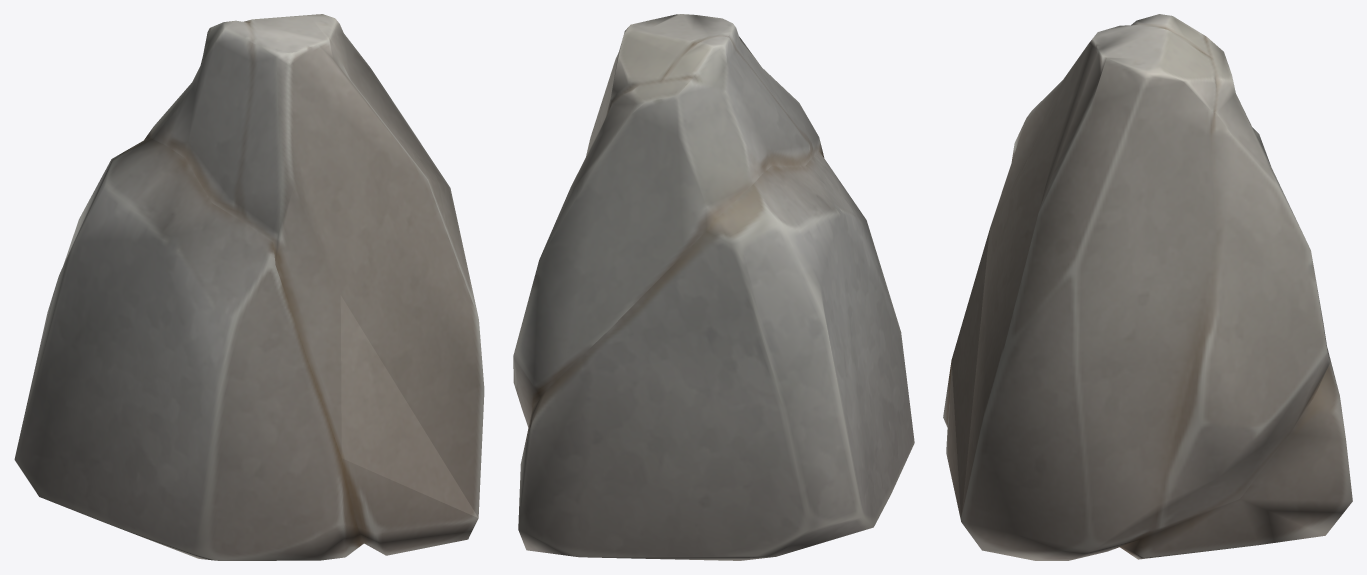
Rendered from rock3.glb.
The picture shows the model from 3 angles, left to right: view 1: azimuth 30°, elevation 25°; view 2: azimuth 150°, elevation 25°; view 3: azimuth 270°, elevation 25°; orthographic projection. The views are drawn at different scales.
Parts seen in each view (by area): view 1: SM_Rocks_05_RocksStylized_M_0; view 2: SM_Rocks_05_RocksStylized_M_0; view 3: SM_Rocks_05_RocksStylized_M_0.
Part boxes in pixels (x1,y1,x2,y2): SM_Rocks_05_RocksStylized_M_0: [14, 14, 484, 560]; SM_Rocks_05_RocksStylized_M_0: [513, 14, 914, 560]; SM_Rocks_05_RocksStylized_M_0: [943, 14, 1352, 560].
Size of the model in its own units: 10.79 by 13.77 by 10.86.
1 material, 1 textured.
